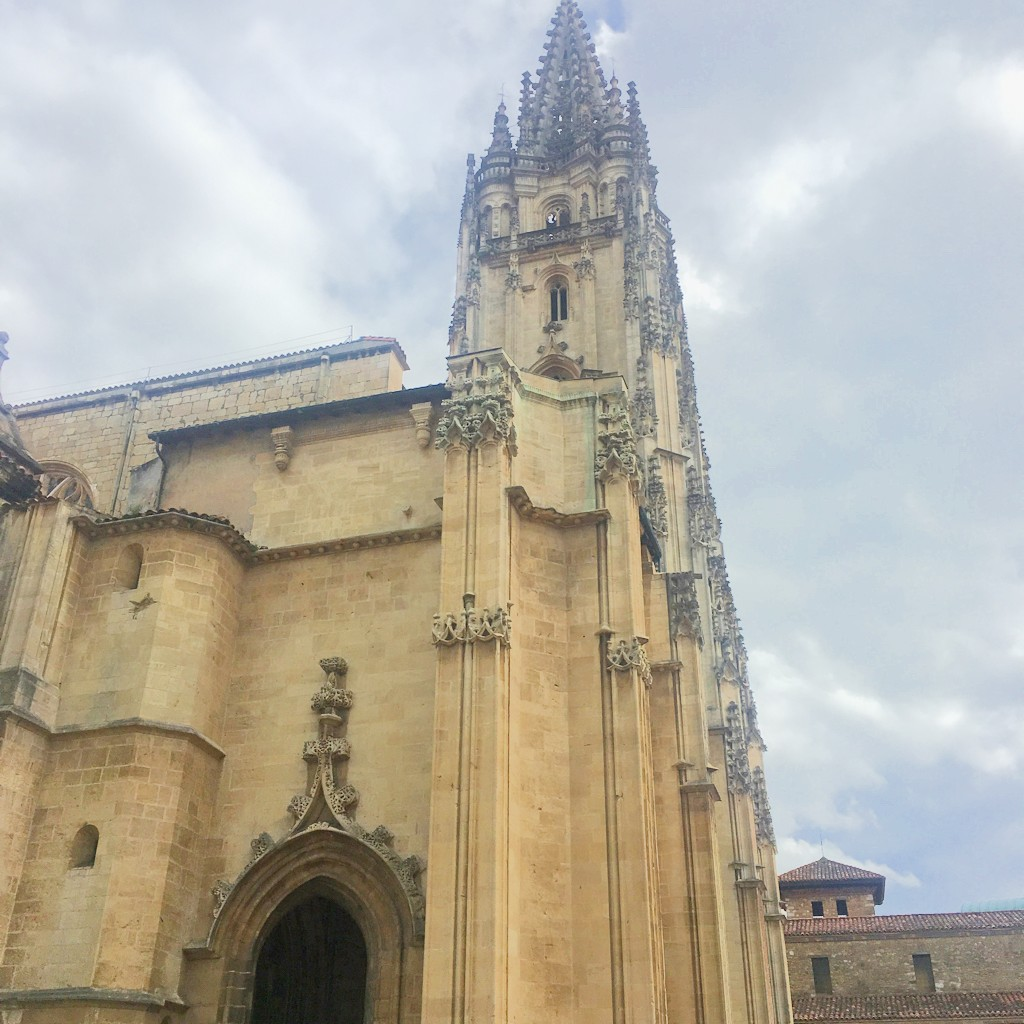arco-apuntado: (226, 867, 393, 987)
arco-conopial: (260, 765, 387, 857)
pinaculo-gotico: (520, 1, 650, 157)
